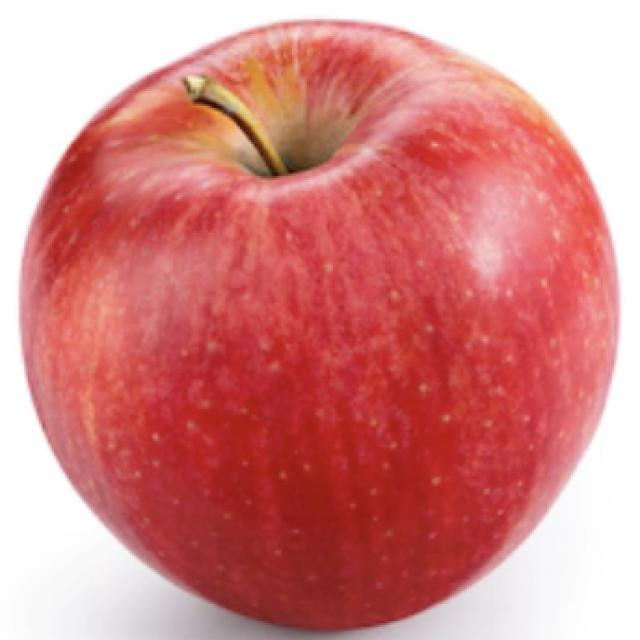Fresh Apple: (45, 16, 612, 626)
